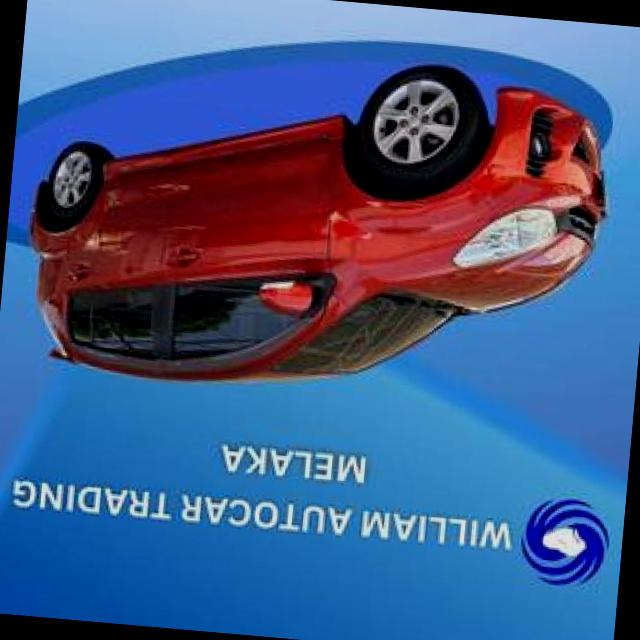PeroduaMyvi: (13, 30, 620, 423)
